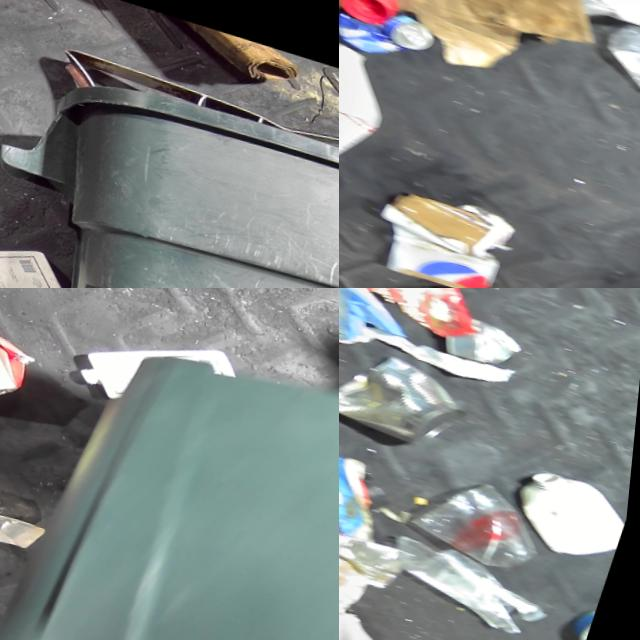can: (339, 332, 485, 448), (339, 0, 449, 67), (575, 590, 605, 639)
milk_jug: (339, 15, 413, 185), (0, 207, 85, 288)
non_white_jug: (0, 307, 51, 434)
